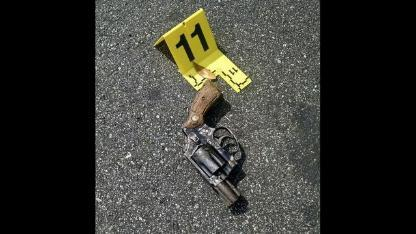pistol: (169, 78, 253, 208)
